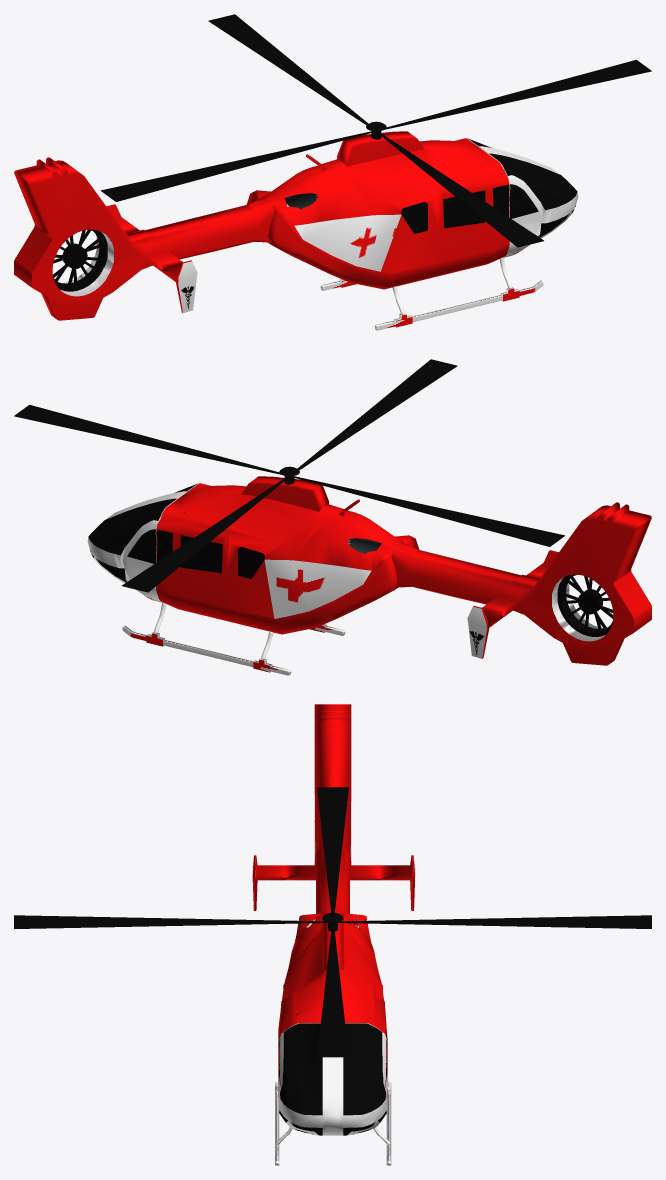
File: eurocopter.fbx
The picture shows the model from 3 angles, top to bottom: view 1: azimuth 30°, elevation 25°; view 2: azimuth 150°, elevation 25°; view 3: azimuth 270°, elevation 25°; orthographic projection. The views are drawn at different scales.
Visible parts, largest first — view 1: eurocopter.002, Cylinder.001, Glasses, Cylinder; view 2: eurocopter.002, Cylinder.001, Glasses, Cylinder; view 3: eurocopter.002, Cylinder.001, Glasses.
Boxes of the visible parts, x1,y1,x2,y2 form: eurocopter.002: (14,131,578,330); Cylinder.001: (100,14,651,247); Glasses: (401,138,577,237); Cylinder: (53,229,107,291); eurocopter.002: (87,476,651,675); Cylinder.001: (14,359,565,592); Glasses: (88,483,264,582); Cylinder: (557,574,613,636); eurocopter.002: (252,704,415,1165); Cylinder.001: (14,787,651,1057); Glasses: (278,1023,387,1135).
Size of the model in its own units: 477 by 161 by 411.
